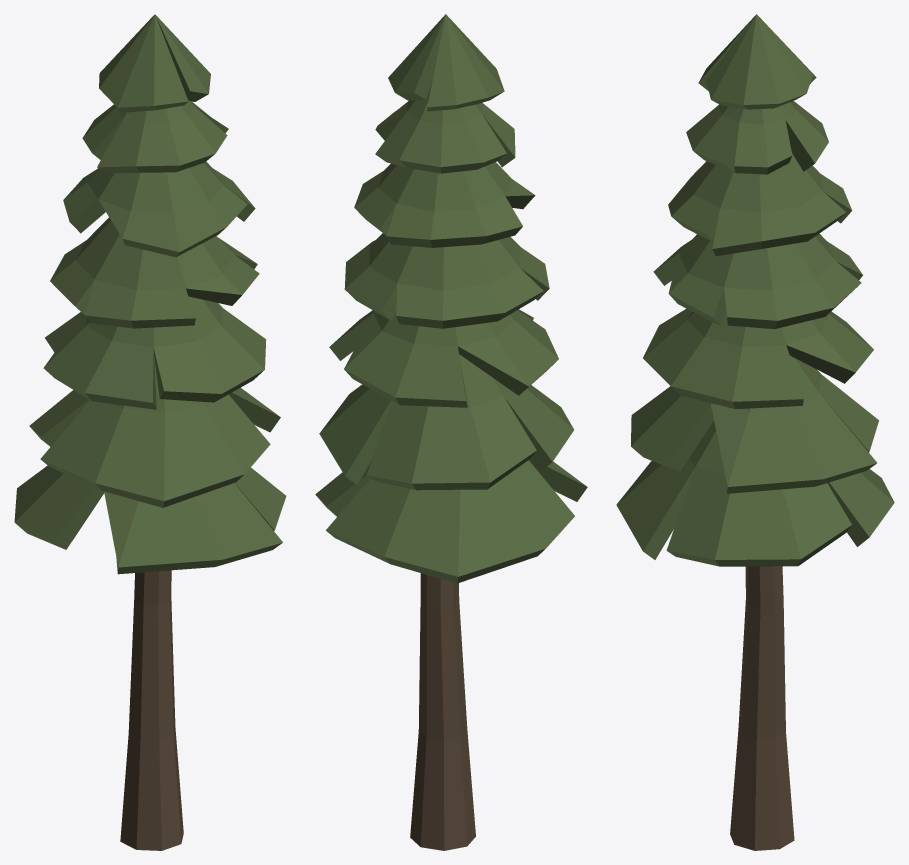
Rendered from SM_Envr_Nature_Tree_Pine_Large_05.fbx.
The picture shows the model from 3 angles, left to right: view 1: azimuth 30°, elevation 25°; view 2: azimuth 150°, elevation 25°; view 3: azimuth 270°, elevation 25°; orthographic projection.
Visible parts, largest first — view 1: SM_Envr_Nature_Tree_Pine_Large_05; view 2: SM_Envr_Nature_Tree_Pine_Large_05; view 3: SM_Envr_Nature_Tree_Pine_Large_05.
Part boxes in pixels (left/top/right/bottom): SM_Envr_Nature_Tree_Pine_Large_05: left=14, top=14, right=286, bottom=850; SM_Envr_Nature_Tree_Pine_Large_05: left=315, top=14, right=587, bottom=850; SM_Envr_Nature_Tree_Pine_Large_05: left=616, top=14, right=894, bottom=850.
Bounding box in the file's own units: 376 × 1277 × 391.
